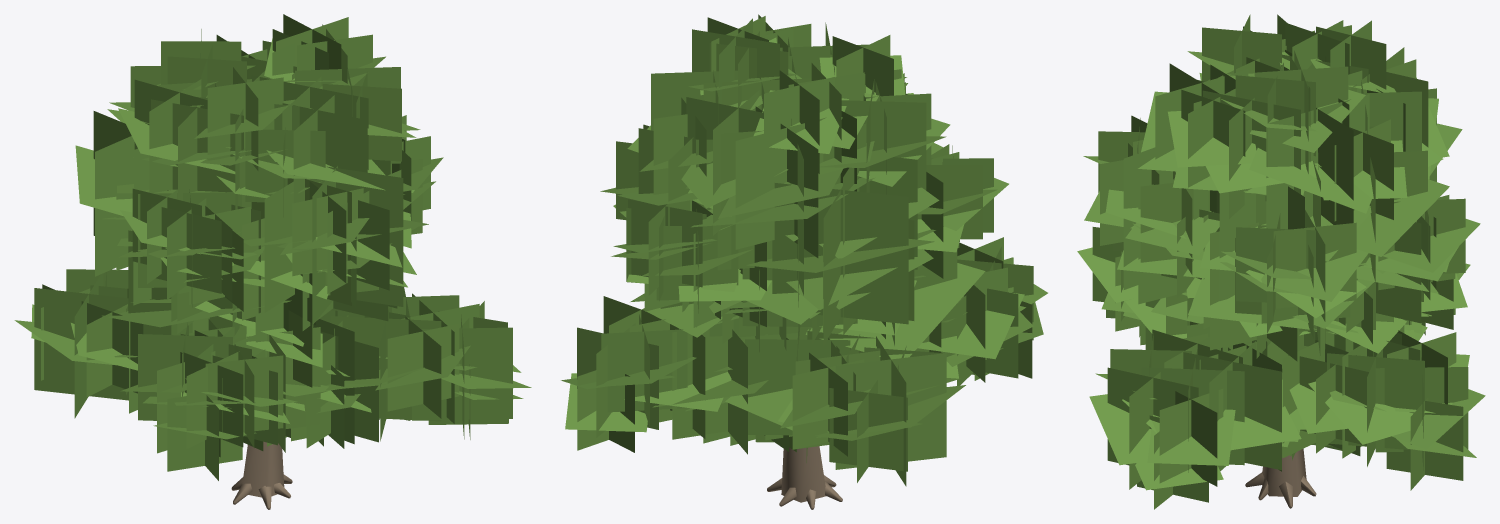
File: pommier_5_f2_loin.glb
3 views of the same model, side by side, from view 1: azimuth 30°, elevation 25°; view 2: azimuth 150°, elevation 25°; view 3: azimuth 270°, elevation 25° (orthographic).
Visible parts, largest first — view 1: Pommier_T5_f2_Leger_Loin; view 2: Pommier_T5_f2_Leger_Loin; view 3: Pommier_T5_f2_Leger_Loin.
Boxes of the visible parts, x1,y1,x2,y2 form: Pommier_T5_f2_Leger_Loin: (14,14,531,509); Pommier_T5_f2_Leger_Loin: (561,14,1047,509); Pommier_T5_f2_Leger_Loin: (1077,14,1485,509).
Size of the model in its own units: 8.85 by 10.02 by 8.2.
